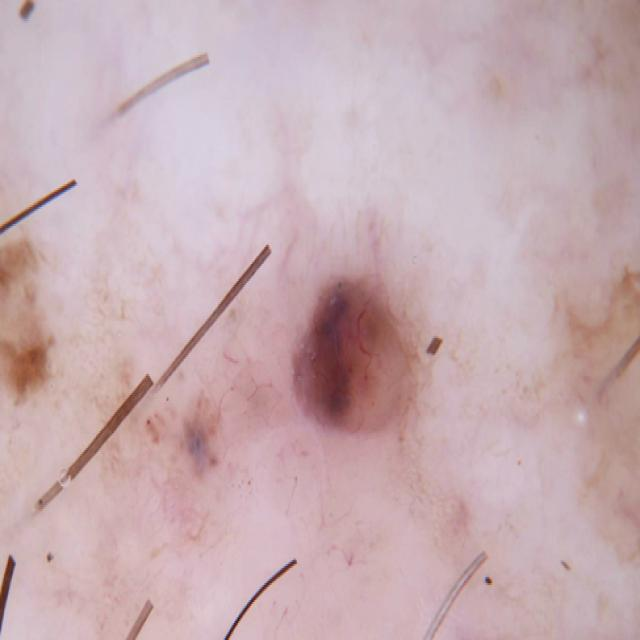Carcinoma: (270, 187, 486, 585), (0, 247, 87, 446), (169, 383, 246, 545)
